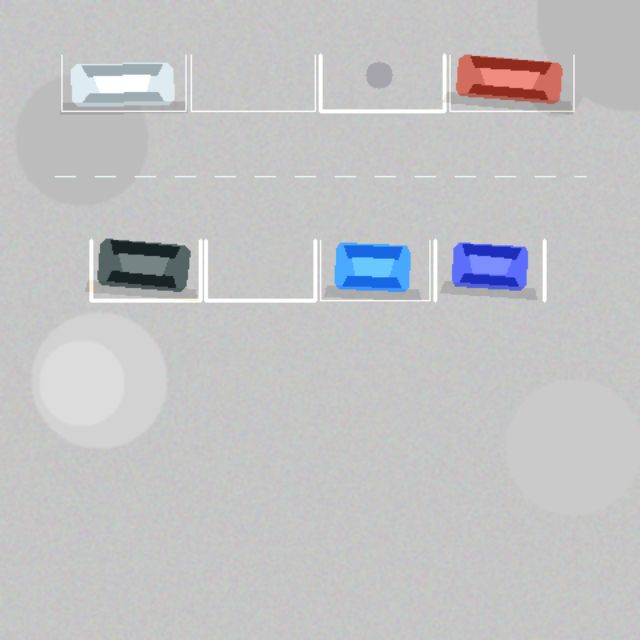space-empty: (191, 55, 315, 111), (320, 55, 444, 111), (205, 240, 315, 300)
space-occupied: (61, 55, 185, 111), (449, 55, 573, 111), (91, 240, 200, 300), (320, 240, 429, 300), (435, 240, 544, 300)
